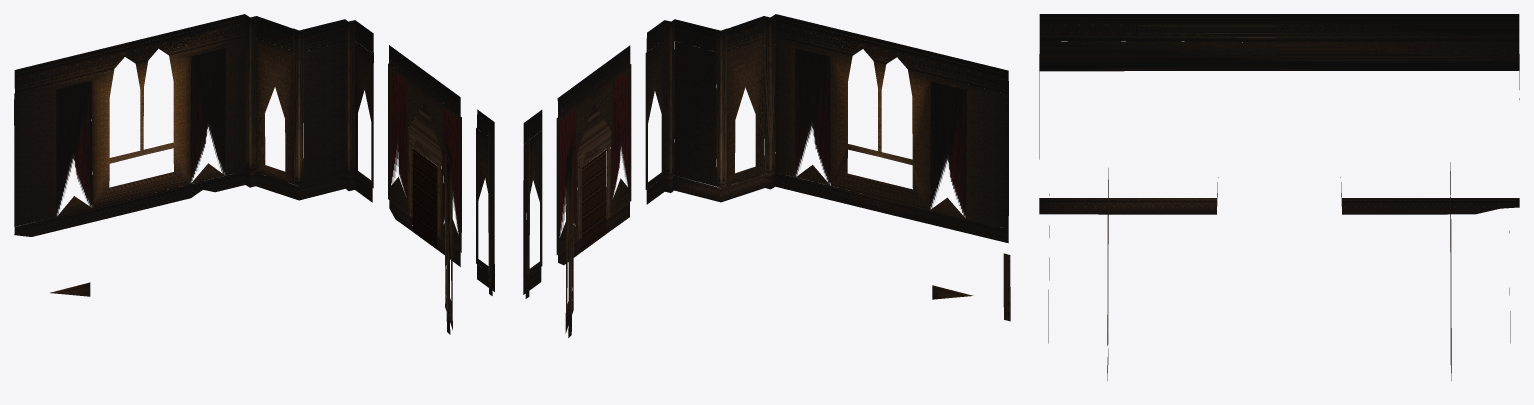
Rendered from test-walls-solid.glb.
3 views of the same model, side by side, from view 1: azimuth 30°, elevation 25°; view 2: azimuth 150°, elevation 25°; view 3: azimuth 270°, elevation 25° (orthographic). The views are drawn at different scales.
Parts seen in each view (by area): view 1: walls; view 2: walls; view 3: walls.
Boxes of the visible parts, x1,y1,x2,y2 form: walls: (14,14,494,334); walls: (523,14,1010,337); walls: (1039,14,1519,380).
Size of what is drawn, in the model's own units: 335 by 136 by 295.
11 materials, 11 textured.
